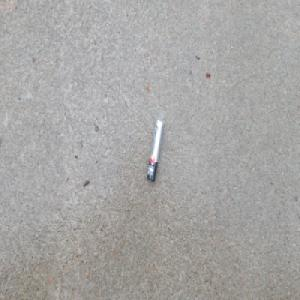Battery: (146, 118, 163, 184)
